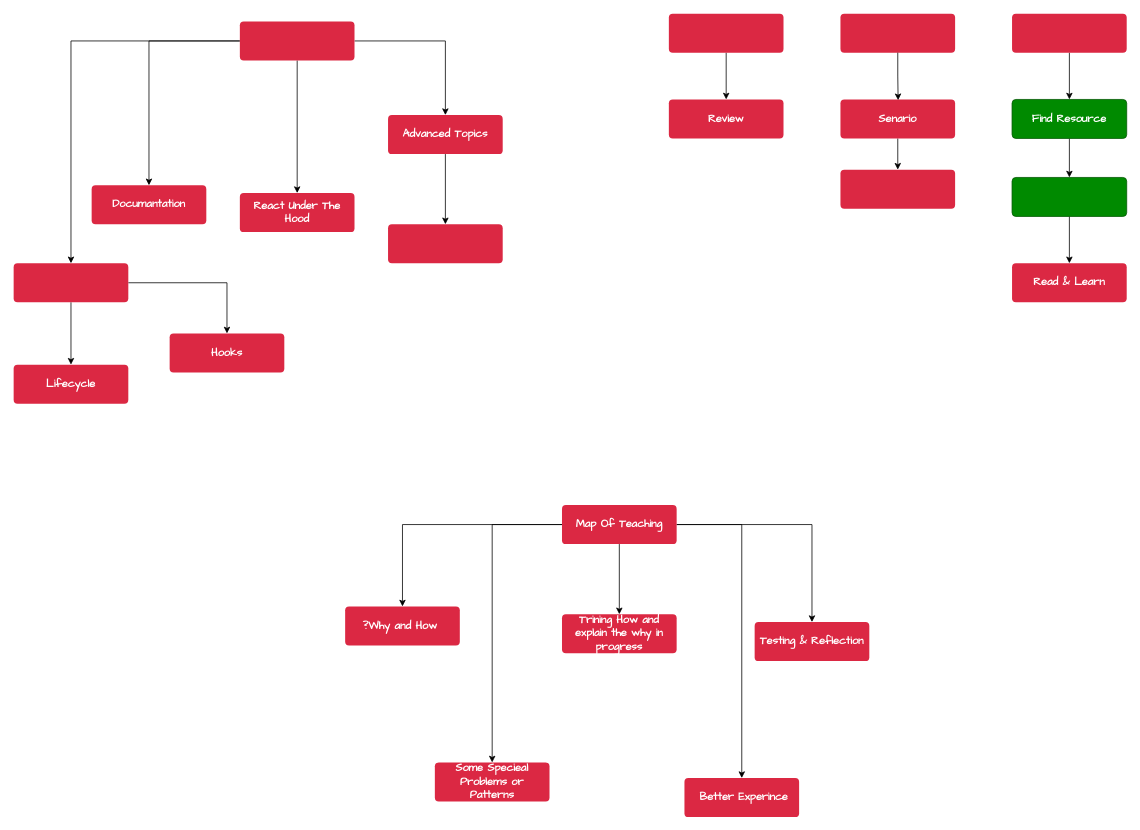
Some shapes in this 1140 by 830 pixel diagram are drawn without their labels. Here are the shapes that lost their labels. From the top down, the centre of each, then its label:
the point at 296,40: Resources
the point at 725,32: Release
the point at 897,32: Production
the point at 1069,32: Information Collection
the point at 897,188: Recording
the point at 1069,196: Create a Map
the point at 445,243: Search For Each Concept
the point at 70,282: Testing The React
